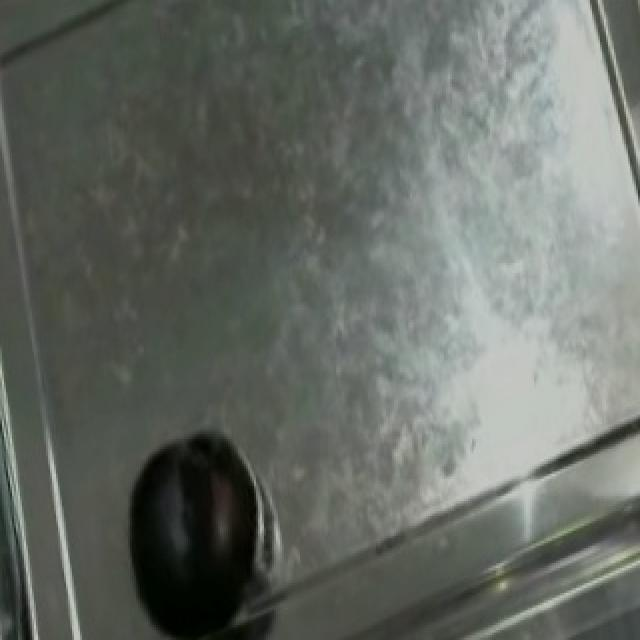Fruit: (108, 426, 274, 640)
